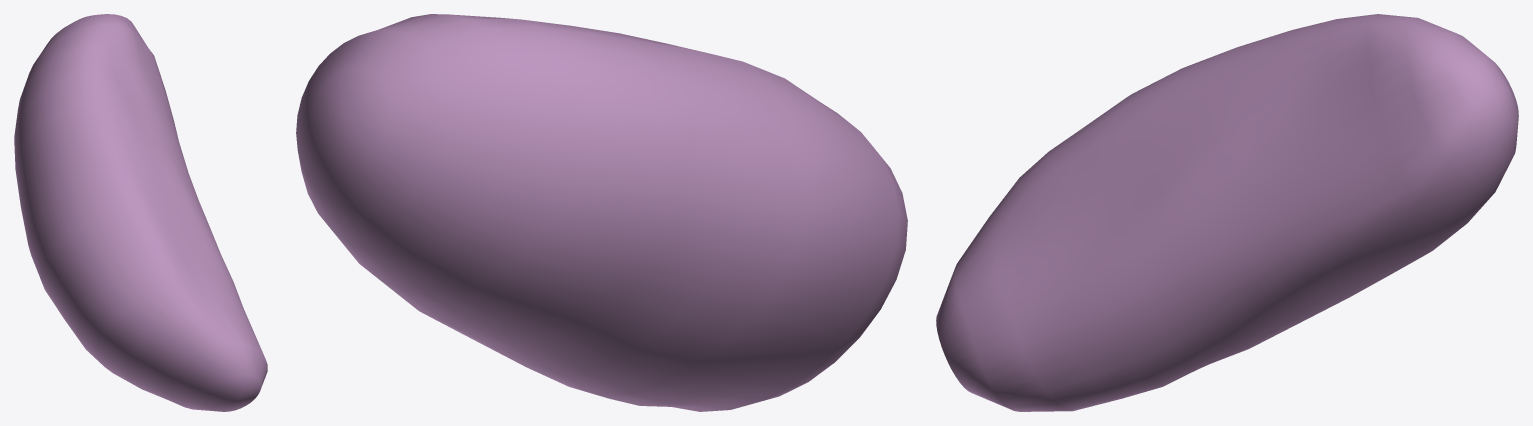
3 renders of one model, left to right at view 1: azimuth 30°, elevation 25°; view 2: azimuth 150°, elevation 25°; view 3: azimuth 270°, elevation 25°, orthographic. The views are drawn at different scales.
Parts seen in each view (by area): view 1: 右侧橄榄; view 2: 右侧橄榄; view 3: 右侧橄榄.
Boxes of the visible parts, x1=… form: 右侧橄榄: x1=14, y1=14, x2=267, y2=411; 右侧橄榄: x1=296, y1=14, x2=907, y2=411; 右侧橄榄: x1=936, y1=14, x2=1518, y2=411.
Size of the model in its own units: 0.0114 by 0.0152 by 0.0205.
